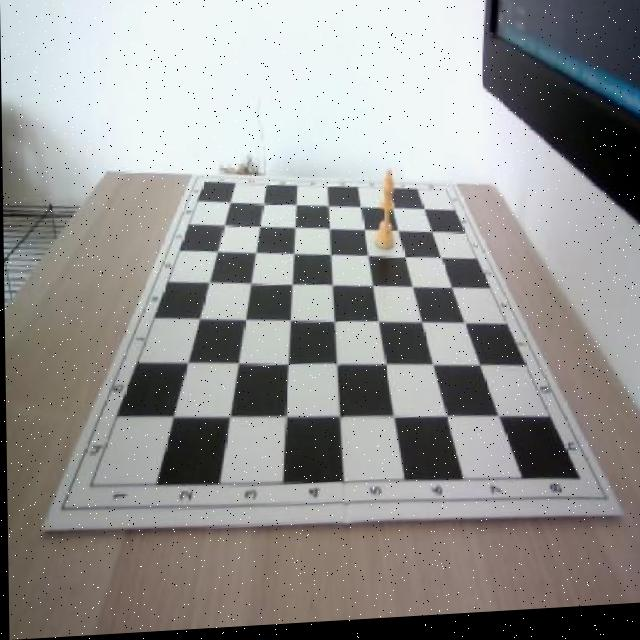black-rook: (373, 172, 396, 256)
